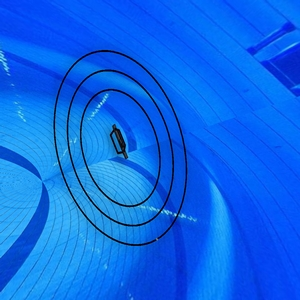circle: (47, 46, 201, 254)
submarine: (103, 121, 137, 162)
